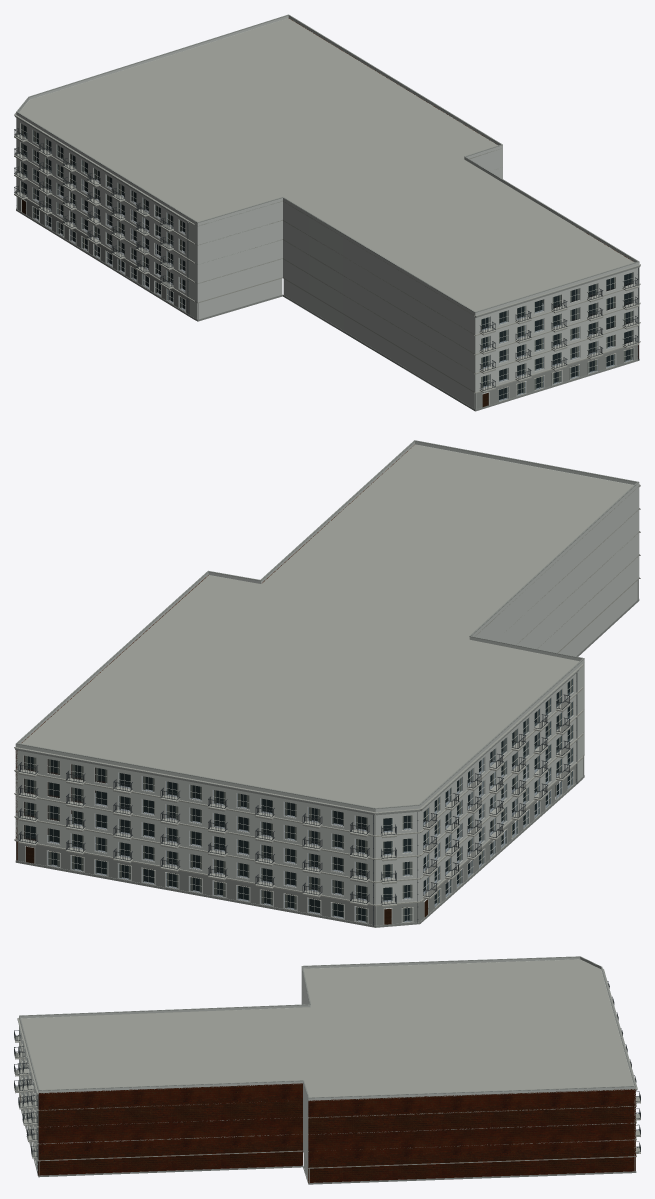
Rendered from building.glb.
3 renders of one model, top to bottom at view 1: azimuth 30°, elevation 25°; view 2: azimuth 150°, elevation 25°; view 3: azimuth 270°, elevation 25°, orthographic. The views are drawn at different scales.
Parts seen in each view (by area): view 1: roof/main:0/roof_slab#0001, main:0/edge5/z0/main:0/edge5/z0/wall_1_0/core0, main:0/edge0/z0/main:0/edge0/z0/wall_1_0, main:0/edge6/z0/main:0/edge6/z0/wall_1_0/core0, main:0/edge2/z0/main:0/edge2/z0/wall_1_0, roof/main:0/parapet#0001, main:0/edge4/z0/main:0/edge4/z0/wall_1_0, main:0/edge5/z0/main:0/edge5/z0/wall_0_0/core0, main:0/edge3/z0/main:0/edge3/z0/wall_1_0, roof/main:0/parapet_cap#0002, main:0/edge2/z0/main:0/edge2/z0/wall_0_0, roof/main:0/parapet_cap#0001 (+3 smaller); view 2: roof/main:0/roof_slab#0001, main:0/edge10/z0/main:0/edge10/z0/wall_1_0/core0, main:0/edge5/z0/main:0/edge5/z0/wall_1_0/core0, main:0/edge0/z0/main:0/edge0/z0/wall_1_0, roof/main:0/parapet#0001, main:0/edge10/z0/main:0/edge10/z0/coating_0_0_0/core0, roof/main:0/parapet_cap#0002, main:0/edge11/z0/main:0/edge11/z0/wall_1_0, roof/main:0/parapet_cap#0001, main:0/edge5/z0/main:0/edge5/z0/wall_0_0/core0, main:0/edge0/z0/main:0/edge0/z0/coating_0_0_0, main:0/edge4/z0/main:0/edge4/z0/wall_1_0 (+2 smaller); view 3: roof/main:0/roof_slab#0001, main:0/edge9/z0/main:0/edge9/z0/wall_1_0/core0, main:0/edge7/z0/main:0/edge7/z0/wall_1_0, main:0/edge9/z0/main:0/edge9/z0/wall_0_0/core0, main:0/edge7/z0/main:0/edge7/z0/wall_0_0, roof/main:0/parapet#0001, roof/main:0/parapet_cap#0002, roof/main:0/parapet_cap#0001, main:0/edge9/z0/plinth#0001, main:0/edge6/z0/main:0/edge6/z0/wall_1_0/core0, main:0/edge7/z0/plinth#0001, main:0/edge9/z0/floor_slab#0001 (+2 smaller).
Boxes of the visible parts, x1,y1,x2,y2 form: roof/main:0/roof_slab#0001: [19, 18, 634, 315]; main:0/edge5/z0/main:0/edge5/z0/wall_1_0/core0: [343, 237, 475, 391]; main:0/edge0/z0/main:0/edge0/z0/wall_1_0: [16, 118, 189, 296]; main:0/edge6/z0/main:0/edge6/z0/wall_1_0/core0: [475, 267, 639, 391]; main:0/edge2/z0/main:0/edge2/z0/wall_1_0: [197, 201, 282, 302]; roof/main:0/parapet#0001: [16, 15, 639, 315]; main:0/edge4/z0/main:0/edge4/z0/wall_1_0: [309, 217, 342, 312]; main:0/edge5/z0/main:0/edge5/z0/wall_0_0/core0: [343, 315, 475, 409]; main:0/edge3/z0/main:0/edge3/z0/wall_1_0: [283, 201, 309, 292]; roof/main:0/parapet_cap#0002: [16, 14, 638, 312]; main:0/edge2/z0/main:0/edge2/z0/wall_0_0: [197, 278, 282, 319]; roof/main:0/parapet_cap#0001: [16, 15, 639, 312]; roof/main:0/roof_slab#0001: [21, 444, 635, 807]; main:0/edge10/z0/main:0/edge10/z0/wall_1_0/core0: [15, 750, 375, 904]; main:0/edge5/z0/main:0/edge5/z0/wall_1_0/core0: [524, 486, 639, 652]; main:0/edge0/z0/main:0/edge0/z0/wall_1_0: [420, 672, 577, 900]; roof/main:0/parapet#0001: [15, 441, 639, 812]; main:0/edge10/z0/main:0/edge10/z0/coating_0_0_0/core0: [16, 841, 375, 925]; roof/main:0/parapet_cap#0002: [16, 440, 638, 808]; main:0/edge11/z0/main:0/edge11/z0/wall_1_0: [375, 811, 419, 904]; roof/main:0/parapet_cap#0001: [16, 441, 638, 809]; main:0/edge5/z0/main:0/edge5/z0/wall_0_0/core0: [559, 581, 637, 656]; main:0/edge0/z0/main:0/edge0/z0/coating_0_0_0: [419, 764, 576, 921]; main:0/edge4/z0/main:0/edge4/z0/wall_1_0: [494, 591, 523, 646]; roof/main:0/roof_slab#0001: [21, 959, 633, 1101]; main:0/edge9/z0/main:0/edge9/z0/wall_1_0/core0: [308, 1089, 635, 1167]; main:0/edge7/z0/main:0/edge7/z0/wall_1_0: [38, 1083, 302, 1160]; main:0/edge9/z0/main:0/edge9/z0/wall_0_0/core0: [308, 1157, 635, 1182]; main:0/edge7/z0/main:0/edge7/z0/wall_0_0: [38, 1151, 302, 1175]; roof/main:0/parapet#0001: [19, 957, 635, 1100]; roof/main:0/parapet_cap#0002: [19, 956, 635, 1097]; roof/main:0/parapet_cap#0001: [19, 957, 635, 1098]; main:0/edge9/z0/plinth#0001: [308, 1171, 635, 1184]; main:0/edge6/z0/main:0/edge6/z0/wall_1_0/core0: [19, 1026, 38, 1159]; main:0/edge7/z0/plinth#0001: [38, 1165, 302, 1177]; main:0/edge9/z0/floor_slab#0001: [308, 1156, 636, 1168].
Bounding box in the file's own units: 55.08 × 15.47 × 101.
Materials: 10 (2 with a texture image).
